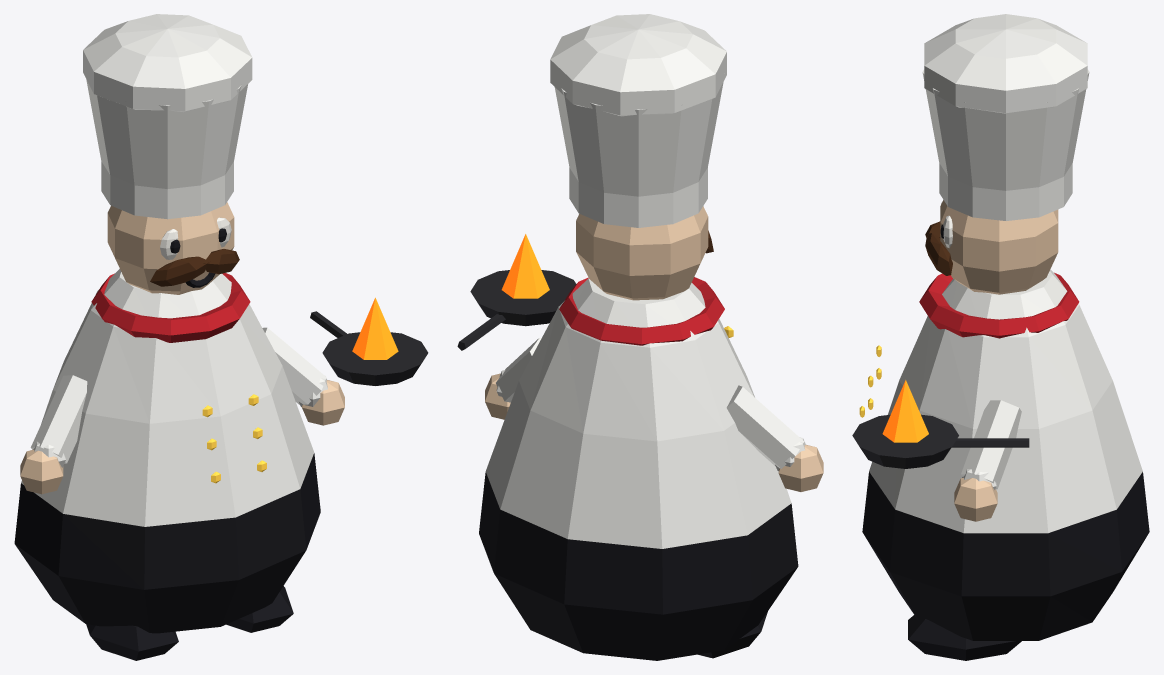
File: npc_flambe.glb
3 renders of one model, left to right at view 1: azimuth 30°, elevation 25°; view 2: azimuth 150°, elevation 25°; view 3: azimuth 270°, elevation 25°, orthographic. The views are drawn at different scales.
Parts seen in each view (by area): view 1: body_chef_white, body_black, cap_chef_white, head_skin_crema, arms_chef_white, body_neckerchief_red, props_pan_black, legs_black, arms_skin_crema, face_hair_brown, props_flame, face_white; view 2: body_chef_white, body_black, cap_chef_white, head_skin_crema, arms_chef_white, props_pan_black, body_neckerchief_red, arms_skin_crema, props_flame, legs_black; view 3: body_chef_white, cap_chef_white, body_black, head_skin_crema, props_pan_black, body_neckerchief_red, arms_chef_white, legs_black, props_flame, arms_skin_crema, face_hair_brown.
Part boxes in pixels (x1,y1,x2,y2): body_chef_white: [21, 269, 314, 526]; body_black: [14, 453, 320, 633]; cap_chef_white: [83, 14, 252, 219]; head_skin_crema: [107, 202, 234, 294]; arms_chef_white: [30, 327, 327, 467]; body_neckerchief_red: [91, 273, 250, 342]; props_pan_black: [310, 311, 428, 385]; legs_black: [86, 586, 293, 660]; arms_skin_crema: [20, 380, 344, 494]; face_hair_brown: [150, 249, 239, 286]; props_flame: [352, 297, 398, 359]; face_white: [160, 217, 231, 259]; body_chef_white: [485, 278, 791, 548]; body_black: [479, 472, 798, 660]; cap_chef_white: [550, 14, 726, 227]; head_skin_crema: [576, 206, 708, 300]; arms_chef_white: [496, 337, 805, 470]; props_pan_black: [457, 270, 576, 350]; body_neckerchief_red: [559, 277, 724, 345]; arms_skin_crema: [485, 373, 823, 491]; props_flame: [501, 234, 549, 298]; legs_black: [698, 611, 767, 658]; body_chef_white: [869, 269, 1142, 533]; cap_chef_white: [922, 14, 1089, 220]; body_black: [862, 472, 1149, 640]; head_skin_crema: [940, 200, 1058, 294]; props_pan_black: [852, 414, 1029, 468]; body_neckerchief_red: [919, 272, 1079, 338]; arms_chef_white: [961, 400, 1021, 489]; legs_black: [908, 615, 1021, 660]; props_flame: [882, 380, 928, 442]; arms_skin_crema: [954, 477, 997, 521]; face_hair_brown: [925, 221, 952, 275].
Bounding box in the file's own units: 1.27 × 1.97 × 0.89.
